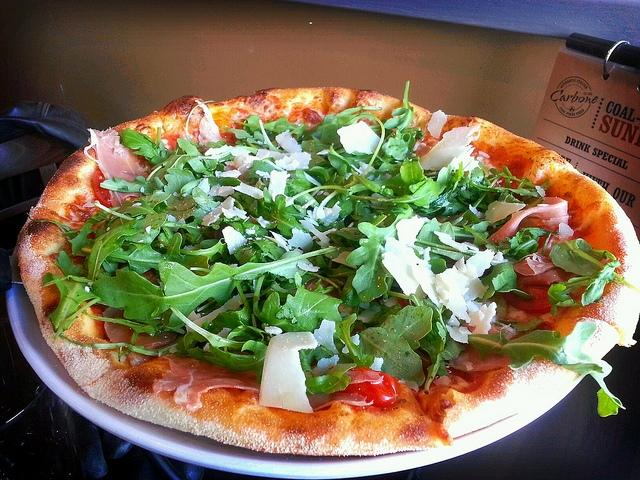tomato: (329, 366, 400, 408), (502, 284, 552, 314), (91, 169, 113, 208), (162, 135, 180, 151)
